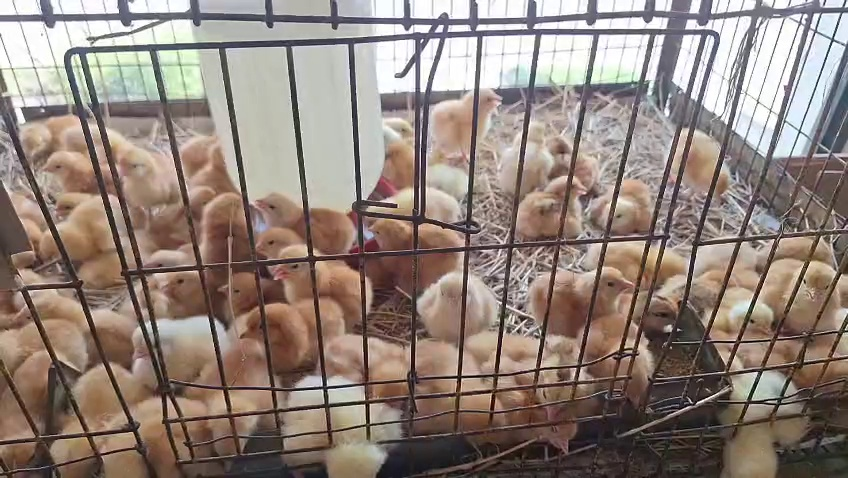Pollo: (274, 371, 403, 478), (37, 362, 149, 478), (398, 332, 513, 439), (16, 277, 150, 366), (483, 353, 587, 458), (308, 322, 430, 408), (717, 366, 808, 478), (271, 240, 378, 331), (192, 370, 284, 468), (575, 308, 660, 412), (131, 305, 239, 386), (0, 349, 71, 467), (368, 214, 475, 292), (528, 264, 640, 337), (253, 177, 353, 256), (136, 379, 215, 478), (660, 115, 745, 205), (424, 74, 509, 164), (617, 256, 702, 345), (702, 280, 786, 370), (764, 254, 848, 340), (30, 196, 131, 261), (186, 178, 257, 266), (415, 269, 499, 342), (511, 174, 594, 247), (587, 165, 670, 238), (584, 238, 693, 290), (528, 322, 585, 421), (241, 297, 308, 374), (690, 226, 774, 287), (70, 224, 150, 288), (493, 120, 559, 197), (362, 177, 464, 226), (137, 213, 213, 276), (543, 120, 608, 193), (148, 183, 219, 246), (114, 143, 181, 207), (156, 257, 224, 320), (215, 252, 282, 315), (760, 225, 844, 275), (364, 124, 422, 187), (41, 150, 129, 191), (188, 139, 243, 195), (12, 109, 85, 151), (169, 118, 224, 173), (63, 120, 133, 161), (252, 219, 307, 268), (39, 185, 105, 224), (418, 161, 475, 203), (379, 107, 426, 149)
